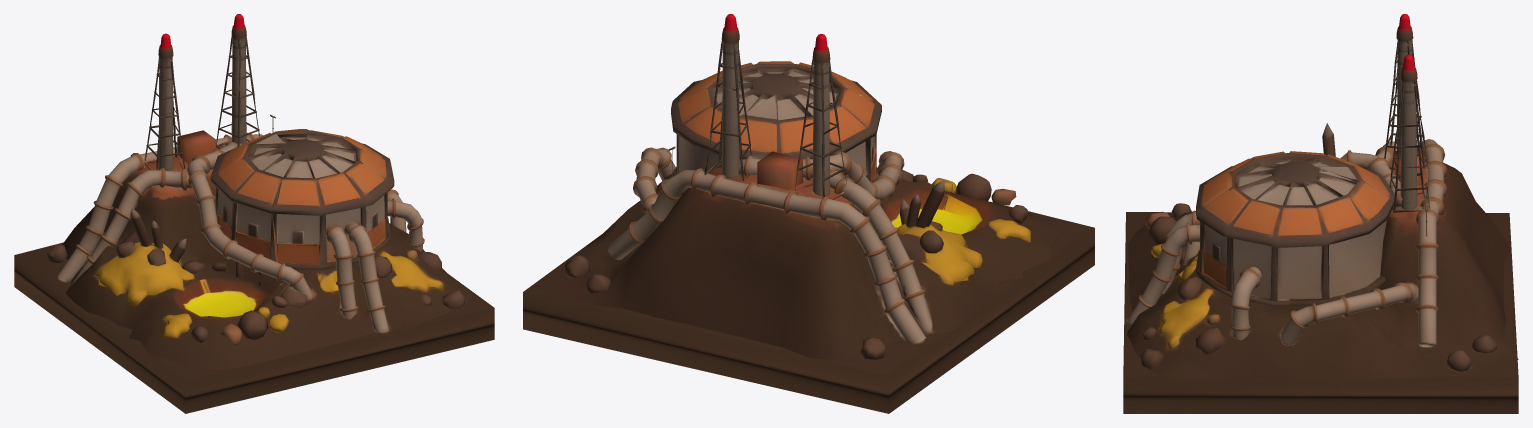
The picture shows the model from 3 angles, left to right: view 1: azimuth 30°, elevation 25°; view 2: azimuth 150°, elevation 25°; view 3: azimuth 270°, elevation 25°; orthographic projection. The views are drawn at different scales.
Parts seen in each view (by area): view 1: tripo_7a93de4d_7852_47ae_aa7c_dd313a77f989; view 2: tripo_7a93de4d_7852_47ae_aa7c_dd313a77f989; view 3: tripo_7a93de4d_7852_47ae_aa7c_dd313a77f989.
Part boxes in pixels (x1=…): tripo_7a93de4d_7852_47ae_aa7c_dd313a77f989: x1=14, y1=14, x2=494, y2=413; tripo_7a93de4d_7852_47ae_aa7c_dd313a77f989: x1=523, y1=14, x2=1094, y2=413; tripo_7a93de4d_7852_47ae_aa7c_dd313a77f989: x1=1123, y1=14, x2=1518, y2=413.
Bounding box in the file's own units: 0.9995 × 0.8052 × 0.9966.
Materials: 1 (1 with a texture image).
